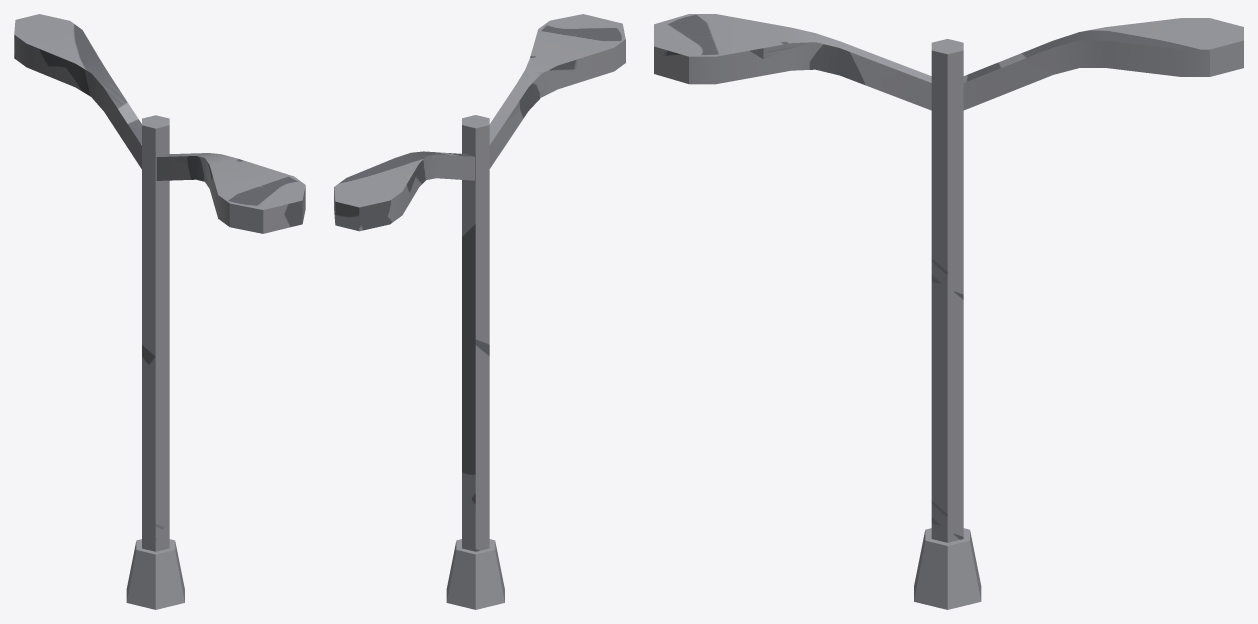
File: DuoLightPost.fbx
3 renders of one model, left to right at view 1: azimuth 30°, elevation 25°; view 2: azimuth 150°, elevation 25°; view 3: azimuth 270°, elevation 25°, orthographic. The views are drawn at different scales.
Parts seen in each view (by area): view 1: Cone004; view 2: Cone004; view 3: Cone004.
Boxes of the visible parts, bbox=[...] form: Cone004: bbox=[14, 14, 305, 609]; Cone004: bbox=[334, 14, 625, 609]; Cone004: bbox=[654, 14, 1243, 609].
Bounding box in the file's own units: 3.92 × 23.92 × 22.84.
